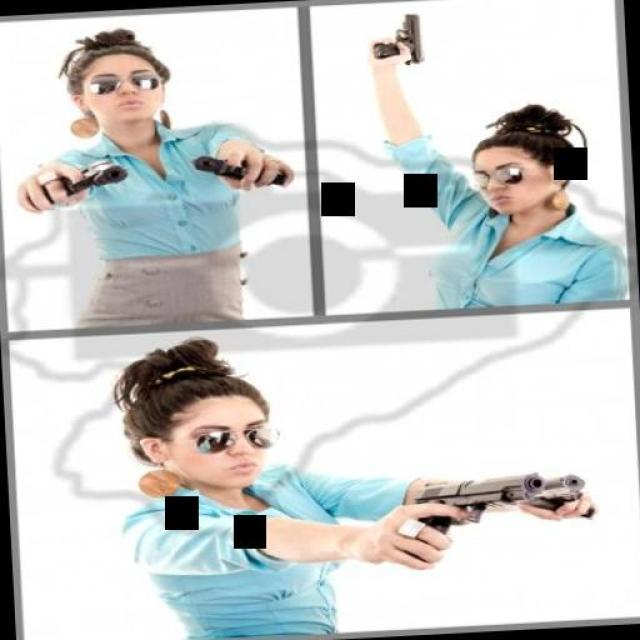gun: (386, 472, 546, 556), (490, 466, 610, 526), (24, 151, 136, 211), (192, 144, 298, 191), (362, 9, 428, 69)
